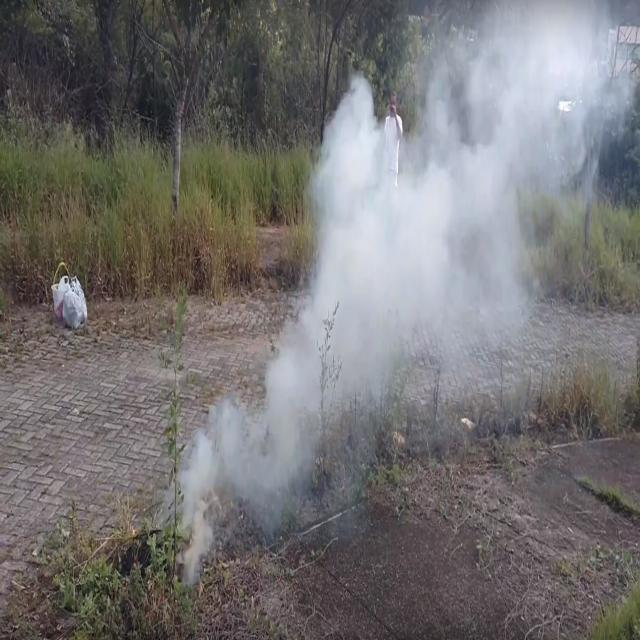smoke: (339, 108, 511, 328), (517, 6, 607, 168), (268, 360, 336, 509)
